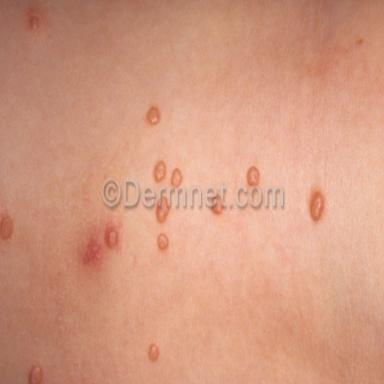Molluscum-Contagiosum: (310, 191, 324, 221), (156, 197, 169, 223), (0, 216, 13, 239), (29, 364, 43, 383), (154, 161, 166, 183), (105, 227, 118, 247), (147, 106, 160, 125), (247, 167, 259, 186), (157, 232, 169, 250), (149, 343, 159, 361), (29, 16, 39, 30), (173, 169, 181, 185)
